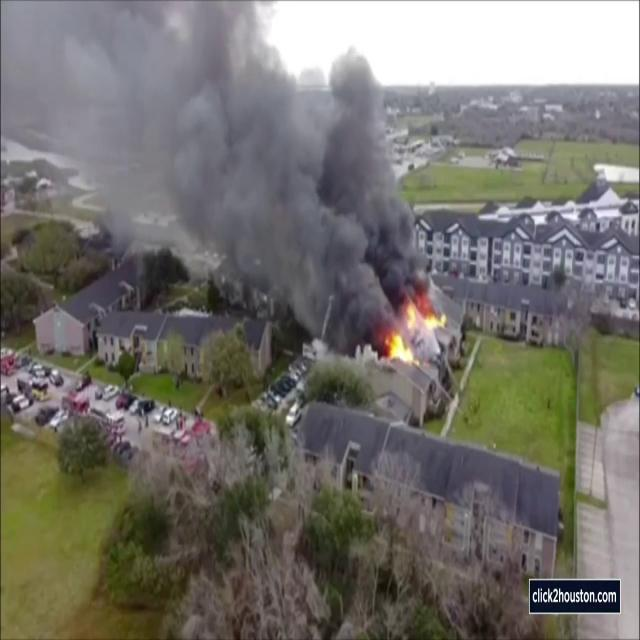Fire: (384, 292, 448, 363)
Smoke: (8, 1, 424, 323)
